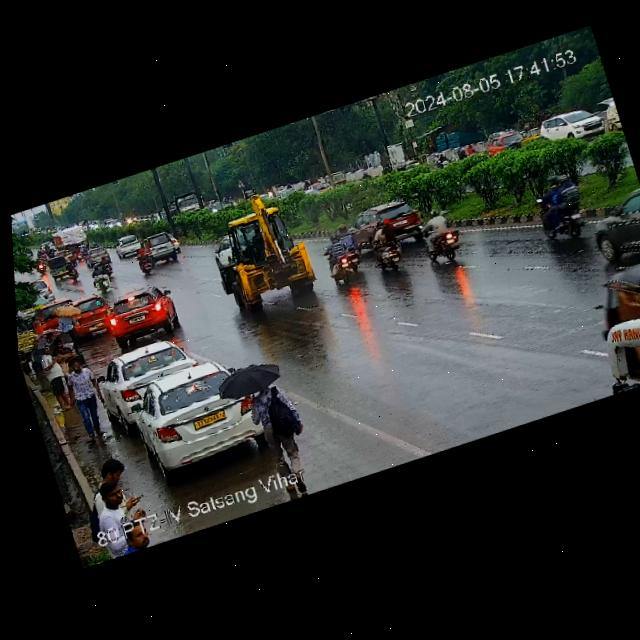bus: (207, 188, 325, 315)
car: (100, 346, 277, 490), (89, 329, 207, 429), (573, 252, 640, 398), (99, 279, 182, 347), (583, 186, 640, 281), (343, 193, 424, 251), (538, 98, 609, 148), (66, 295, 114, 340), (141, 233, 186, 270), (484, 125, 526, 163), (46, 249, 82, 284), (113, 235, 147, 261), (81, 243, 114, 268), (300, 180, 337, 201), (324, 166, 351, 191)
motorcycle: (530, 170, 595, 248), (409, 204, 470, 269), (319, 218, 378, 282), (364, 217, 412, 274), (88, 262, 120, 299), (428, 144, 452, 173), (32, 249, 53, 281)
person: (232, 357, 318, 503), (102, 481, 159, 557), (57, 356, 110, 430), (35, 341, 75, 417), (53, 328, 82, 369), (93, 452, 129, 485), (51, 306, 78, 346)
truck: (45, 220, 90, 255), (164, 187, 205, 219)
